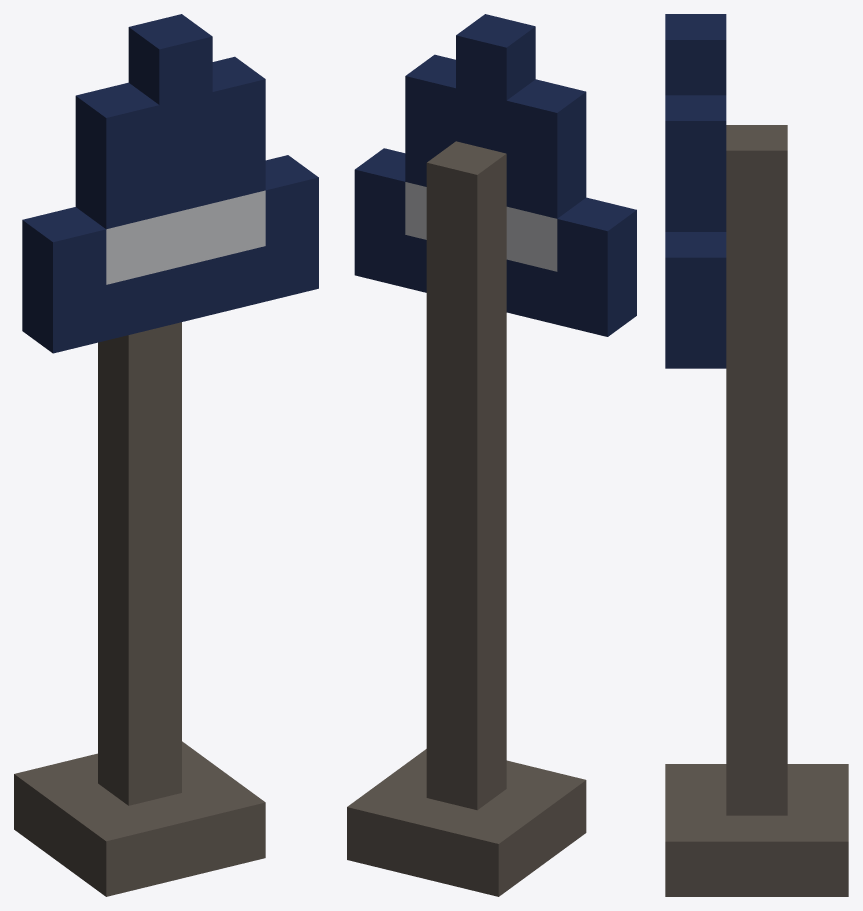
Rendered from traffic_sign_b_b.obj.
The picture shows the model from 3 angles, left to right: view 1: azimuth 30°, elevation 25°; view 2: azimuth 150°, elevation 25°; view 3: azimuth 270°, elevation 25°; orthographic projection. The views are drawn at different scales.
Size of the model in its own units: 0.5 by 1.5 by 0.3.
Materials: 1 (1 with a texture image).
